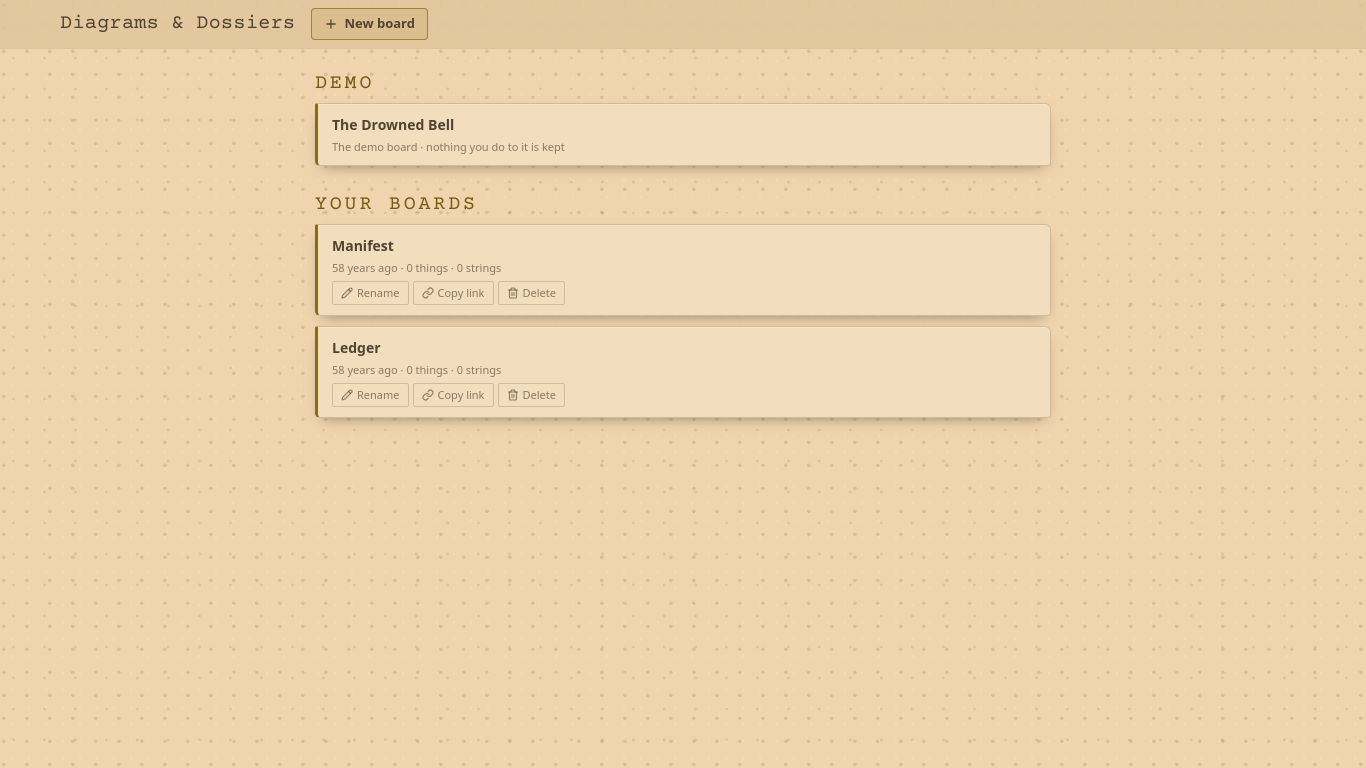
Scenario: App — the boards library › opens a board from the library, and says which one it is
Click the button "Ledger" at (356, 348), box left=332, top=337, right=380, bottom=358
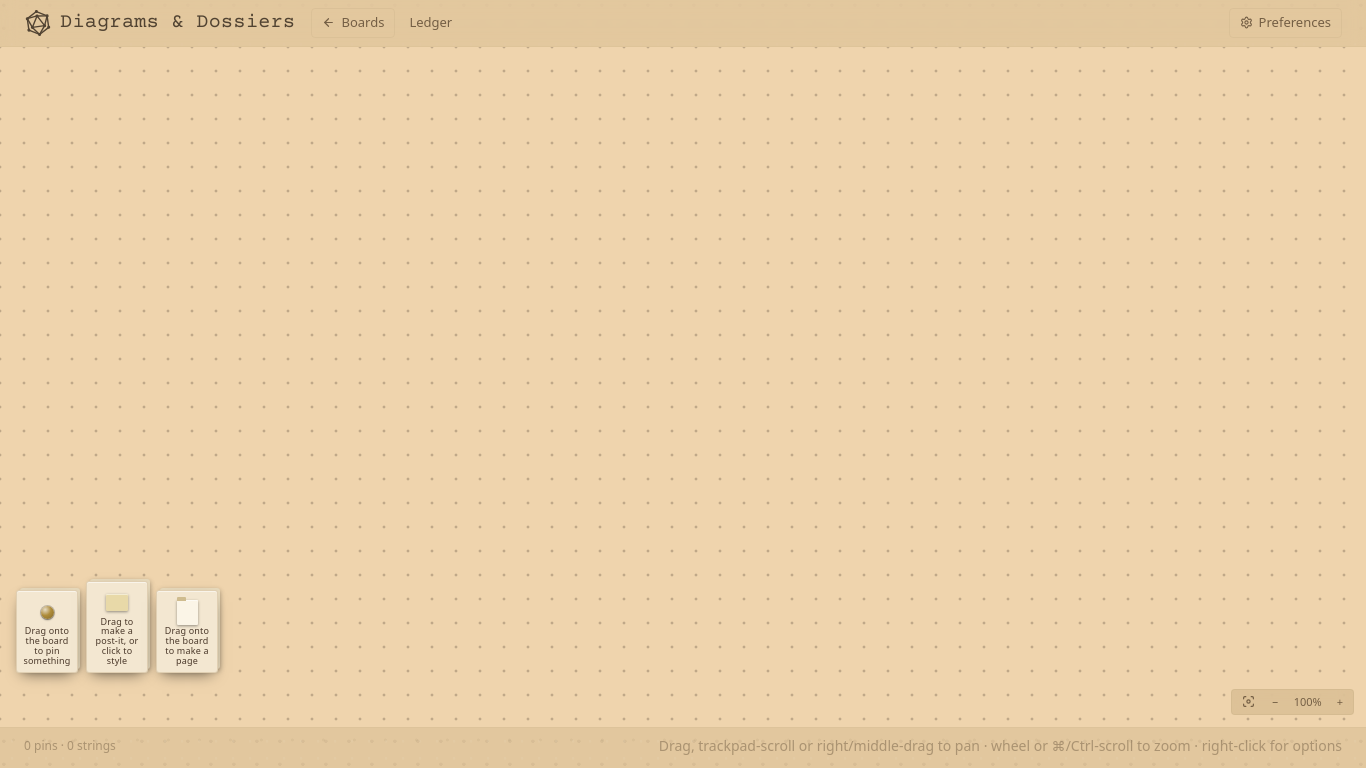
Check: the 2nd element with test id "board-name" is shown, box left=403, top=10, right=582, bottom=36
